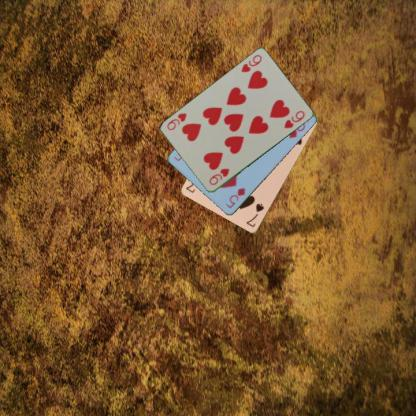5d: (223, 184, 246, 210)
7s: (243, 200, 265, 229)
9h: (238, 52, 263, 74), (206, 166, 231, 186)
